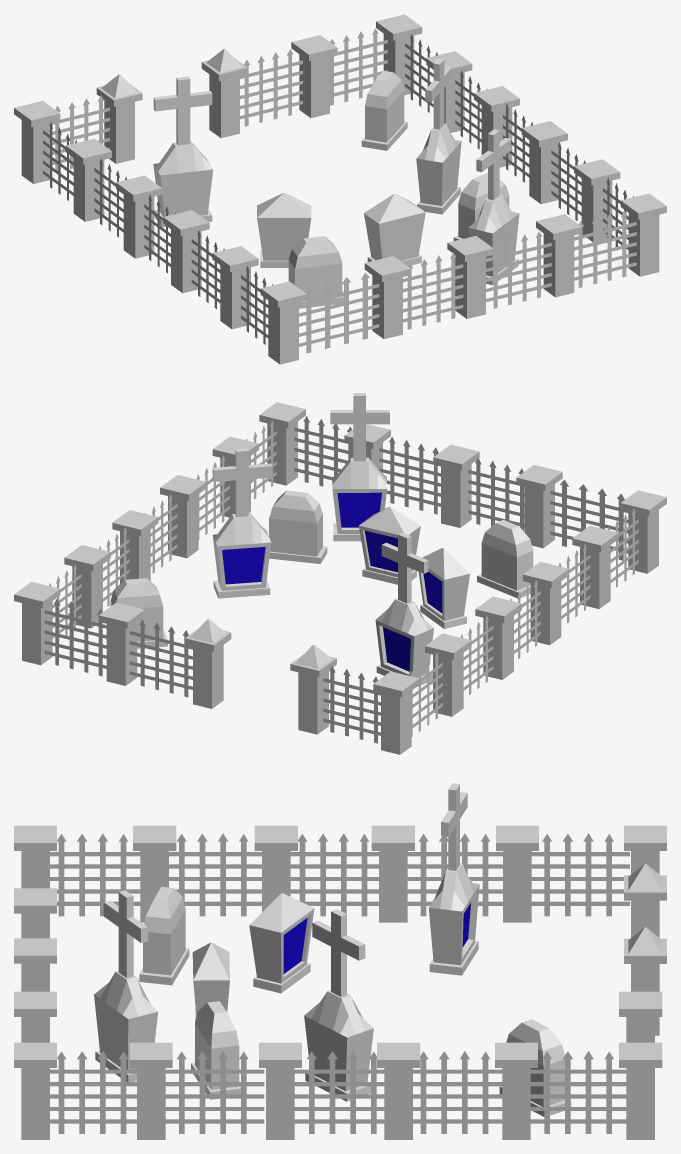
Rendered from cementerio.fbx.
3 renders of one model, top to bottom at view 1: azimuth 30°, elevation 25°; view 2: azimuth 150°, elevation 25°; view 3: azimuth 270°, elevation 25°, orthographic. The views are drawn at different scales.
Parts seen in each view (by area): view 1: suelo.026, suelo.008, suelo; view 2: suelo.026, suelo.008, suelo; view 3: suelo.026, suelo, suelo.008.
Boxes of the visible parts, x1=… form: suelo.026: x1=14, y1=14, x2=666, y2=364; suelo.008: x1=153, y1=58, x2=519, y2=308; suelo: x1=43, y1=28, x2=636, y2=353; suelo.026: x1=14, y1=402, x2=666, y2=754; suelo.008: x1=106, y1=393, x2=533, y2=686; suelo: x1=44, y1=416, x2=638, y2=743; suelo.026: x1=14, y1=825, x2=666, y2=1139; suelo: x1=50, y1=833, x2=629, y2=1133; suelo.008: x1=94, y1=783, x2=571, y2=1116.
Size of the model in its own units: 1348 by 466 by 1586.
